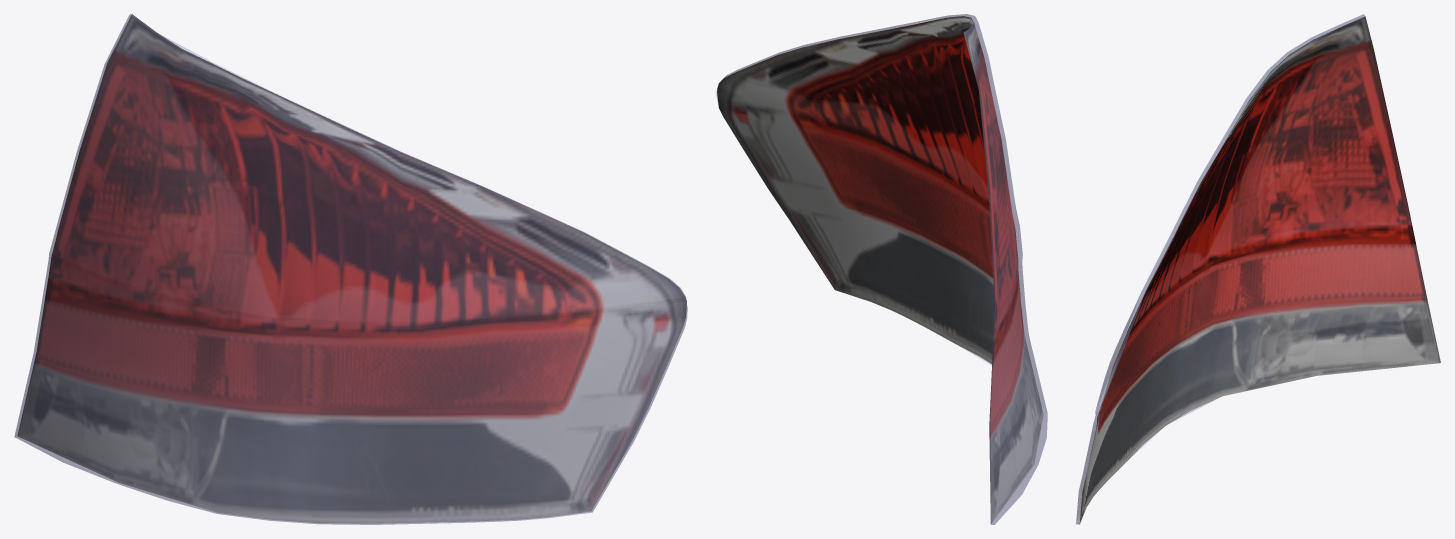
3 renders of one model, left to right at view 1: azimuth 30°, elevation 25°; view 2: azimuth 150°, elevation 25°; view 3: azimuth 270°, elevation 25°, orthographic. The views are drawn at different scales.
Parts seen in each view (by area): view 1: P159_541C_R_1_DTaSI_P159_541C_R, P159_541C_R_P159_541C_R_2_N; view 2: P159_541C_R_P159_541C_R_2_N, P159_541C_R_1_DTaSI_P159_541C_R; view 3: P159_541C_R_P159_541C_R_2_N, P159_541C_R_1_DTaSI_P159_541C_R.
Boxes of the visible parts, <box> form: P159_541C_R_1_DTaSI_P159_541C_R: <box>14,14,687,524</box>; P159_541C_R_P159_541C_R_2_N: <box>17,14,686,523</box>; P159_541C_R_P159_541C_R_2_N: <box>717,16,1043,523</box>; P159_541C_R_1_DTaSI_P159_541C_R: <box>716,14,1047,524</box>; P159_541C_R_P159_541C_R_2_N: <box>1079,16,1440,523</box>; P159_541C_R_1_DTaSI_P159_541C_R: <box>1076,14,1364,524</box>.
Bounding box in the file's own units: 30.48 × 27.58 × 23.61.
